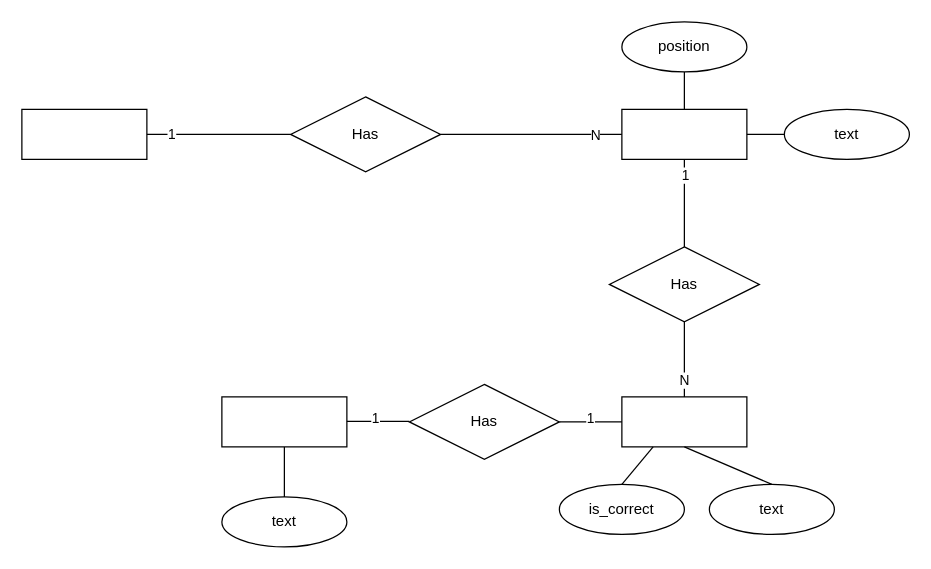
Some shapes in this 931 by 569 pixel diagram are drawn without their labels. The shapes that lost their labels are listed below. From the top down, each one's box as (x1, y1, x2, y2) in pixels, then its label:
(21, 108, 147, 159): Quiz
(621, 108, 747, 159): Questions
(221, 396, 347, 447): AnswerScreen
(621, 396, 747, 447): Answers
